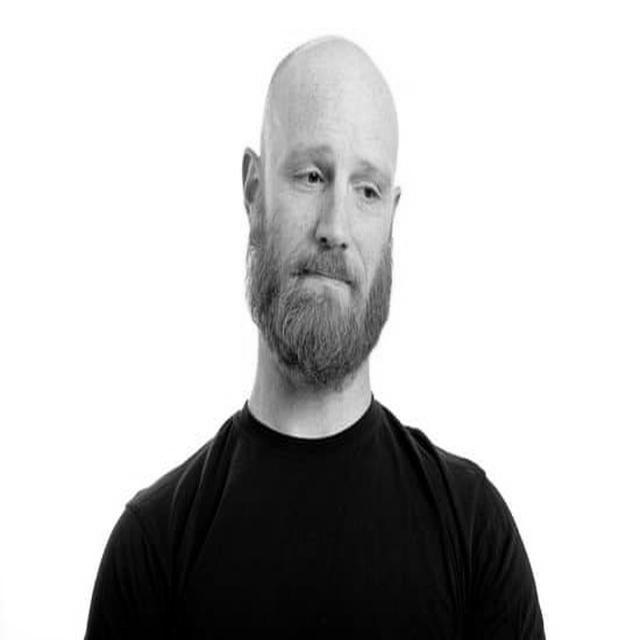Sadness: (278, 87, 387, 348)
